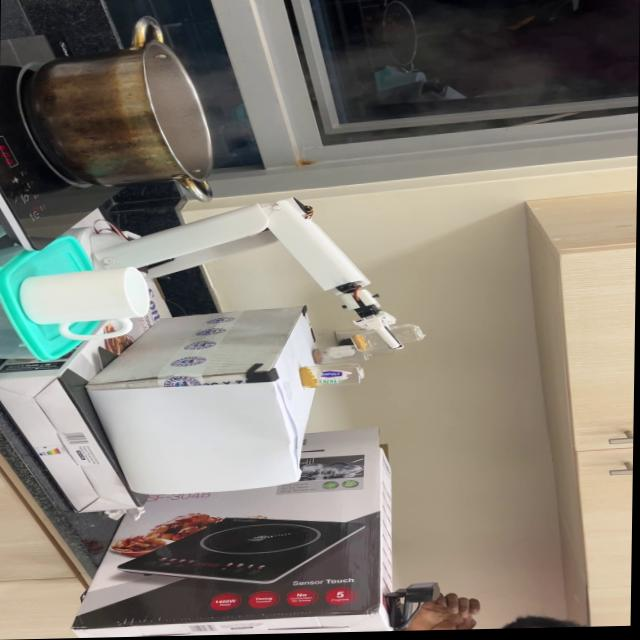cooking_pot: (25, 16, 223, 206)
curry_powder: (297, 365, 324, 392)
garlic_powder: (353, 334, 370, 353)
maggie_open: (314, 348, 326, 364)
